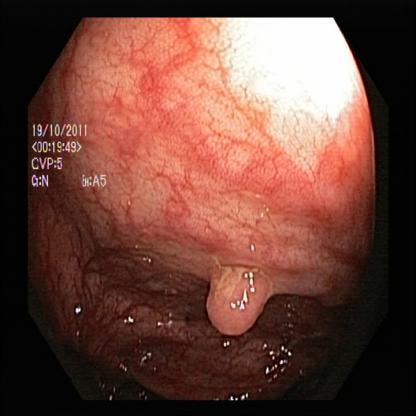Labels: (28, 116, 115, 196)
Polyps: (200, 270, 284, 344)
